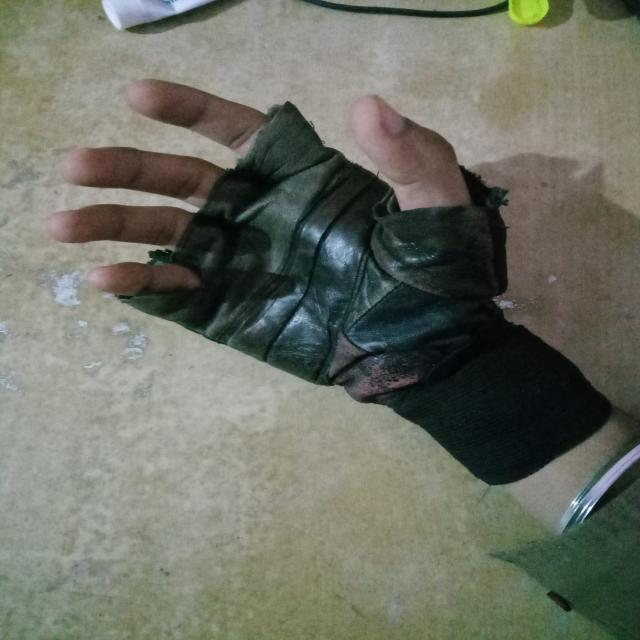glove_hand: (87, 85, 596, 479)
